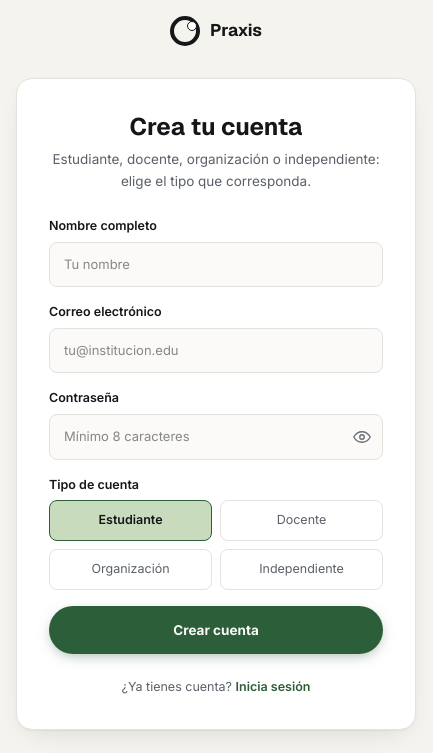
Register › switching the account type selector updates which option is checked
Click the radio button labelled "Organización".
click(130, 570)  # box top-left (49, 549), bottom-right (212, 590)
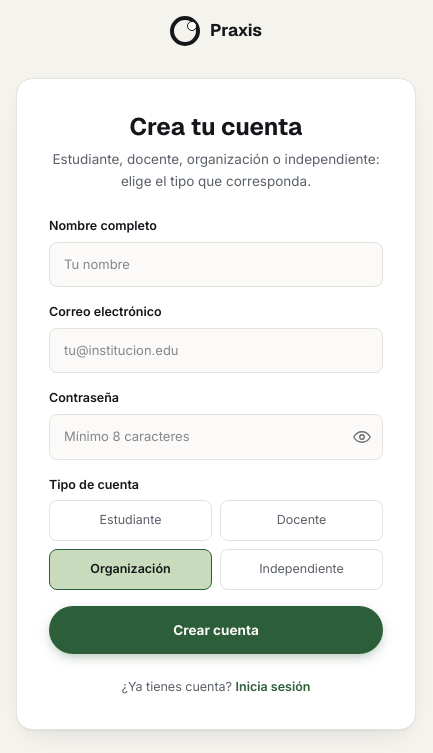
Now the radio button labelled "Organización" is checked, box top-left (49, 549), bottom-right (212, 590)
Now the radio button labelled "Estudiante" is not checked, box top-left (49, 500), bottom-right (212, 541)
